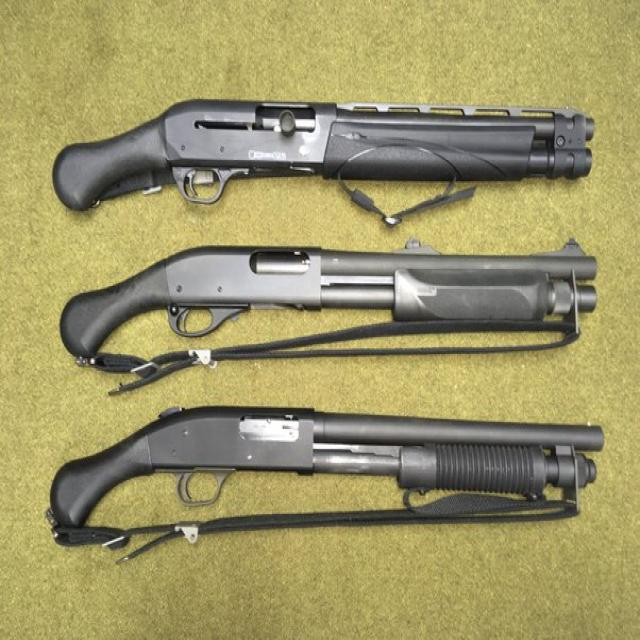ShotGun: (49, 408, 606, 530), (60, 241, 599, 362), (52, 99, 597, 215)
